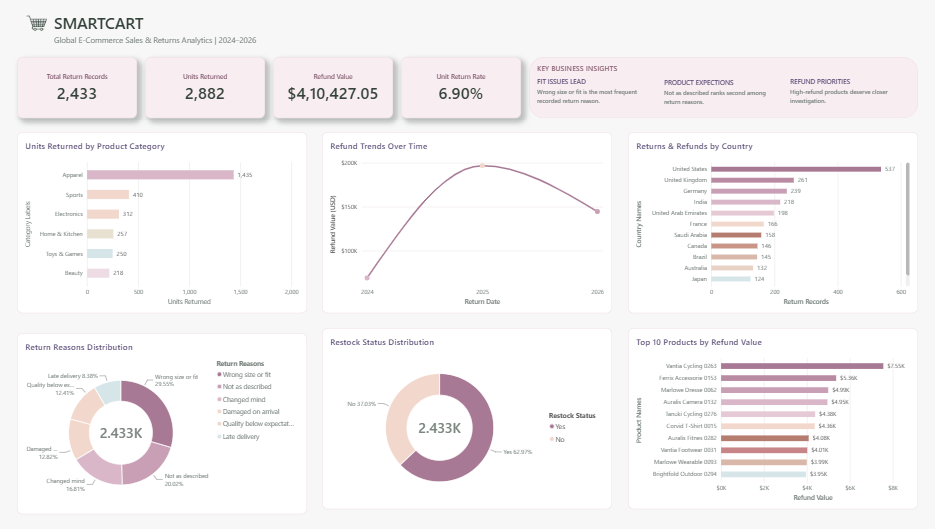

This screenshot's page, from the dashboard's own definition file:
{"tool":"powerbi","page":{"name":"Return & Operations","canvas":[1920,1080],"ordinal":2},"visuals":[{"type":"textbox","box":[117,25,215,50],"z":0},{"type":"textbox","box":[117,72,432,32],"z":1000},{"type":"cardVisual","fields":{"Data":["SmartCart Measures.Total Return Records"]},"box":[41,117,245,125],"z":2000},{"type":"cardVisual","fields":{"Data":["SmartCart Measures.Units Returned"]},"box":[302,117,245,125],"z":3000},{"type":"cardVisual","fields":{"Data":["SmartCart Measures.Refund Value"]},"box":[563,117,245,125],"z":4000},{"type":"cardVisual","fields":{"Data":["SmartCart Measures.Unit Return Rate"]},"box":[824,117,245,125],"z":5000},{"type":"clusteredBarChart","title":"Units Returned by Product Category","fields":{"Category":["products_clean.category"],"Y":["SmartCart Measures.Units Returned"]},"box":[41,270,592,370],"z":6000},{"type":"donutChart","title":"Return Reasons Distribution","fields":{"Category":["returns_clean.return_reason"],"Y":["CountNonNull(returns_clean.return_reason)"]},"box":[41,679,592,370],"z":7000},{"type":"lineChart","title":"Refund Trends Over Time","fields":{"Category":["returns_clean.return_date.Variation.Date Hierarchy.Year","returns_clean.return_date.Variation.Date Hierarchy.Month"],"Y":["SmartCart Measures.Refund Value"]},"box":[664,270,592,370],"z":8000},{"type":"donutChart","title":"Restock Status Distribution","fields":{"Category":["returns_clean.restocked"],"Y":["CountNonNull(returns_clean.return_id)"]},"box":[664,670,592,370],"z":9000},{"type":"clusteredBarChart","title":"Returns & Refunds by Country","fields":{"Category":["customers_clean.country"],"Y":["SmartCart Measures.Total Return Records"]},"box":[1287,270,592,370],"z":10000},{"type":"image","box":[45,22,72,50],"z":11000},{"type":"shape","box":[1085,117,794,125],"z":12000},{"type":"clusteredBarChart","title":"Top 10 Products by Refund Value","fields":{"Category":["products_clean.product_name"],"Y":["SmartCart Measures.Refund Value"]},"box":[1287,670,592,370],"z":13000},{"type":"textbox","box":[1103,128,300,20],"z":13001},{"type":"textbox","box":[1103,158,242,64],"z":13002},{"type":"textbox","box":[1361.1,158.3,243.1,63.9],"z":13003},{"type":"textbox","box":[1619,158,242,64],"z":13004}]}

Visuals, with their boxes in screenshot pixels (x1, y1, x2, y2), scaled from the page's 1920x1080 canvas onto the 935x529 screenshot:
textbox: select_region(57, 12, 162, 37)
textbox: select_region(57, 35, 267, 51)
cardVisual - SmartCart Measures.Total Return Records: select_region(20, 57, 139, 119)
cardVisual - SmartCart Measures.Units Returned: select_region(147, 57, 266, 119)
cardVisual - SmartCart Measures.Refund Value: select_region(274, 57, 393, 119)
cardVisual - SmartCart Measures.Unit Return Rate: select_region(401, 57, 521, 119)
"Units Returned by Product Category" clusteredBarChart: select_region(20, 132, 308, 313)
"Return Reasons Distribution" donutChart: select_region(20, 333, 308, 514)
"Refund Trends Over Time" lineChart: select_region(323, 132, 612, 313)
"Restock Status Distribution" donutChart: select_region(323, 328, 612, 509)
"Returns & Refunds by Country" clusteredBarChart: select_region(627, 132, 915, 313)
image: select_region(22, 11, 57, 35)
shape: select_region(528, 57, 915, 119)
"Top 10 Products by Refund Value" clusteredBarChart: select_region(627, 328, 915, 509)
textbox: select_region(537, 63, 683, 72)
textbox: select_region(537, 77, 655, 109)
textbox: select_region(663, 78, 781, 109)
textbox: select_region(788, 77, 906, 109)
